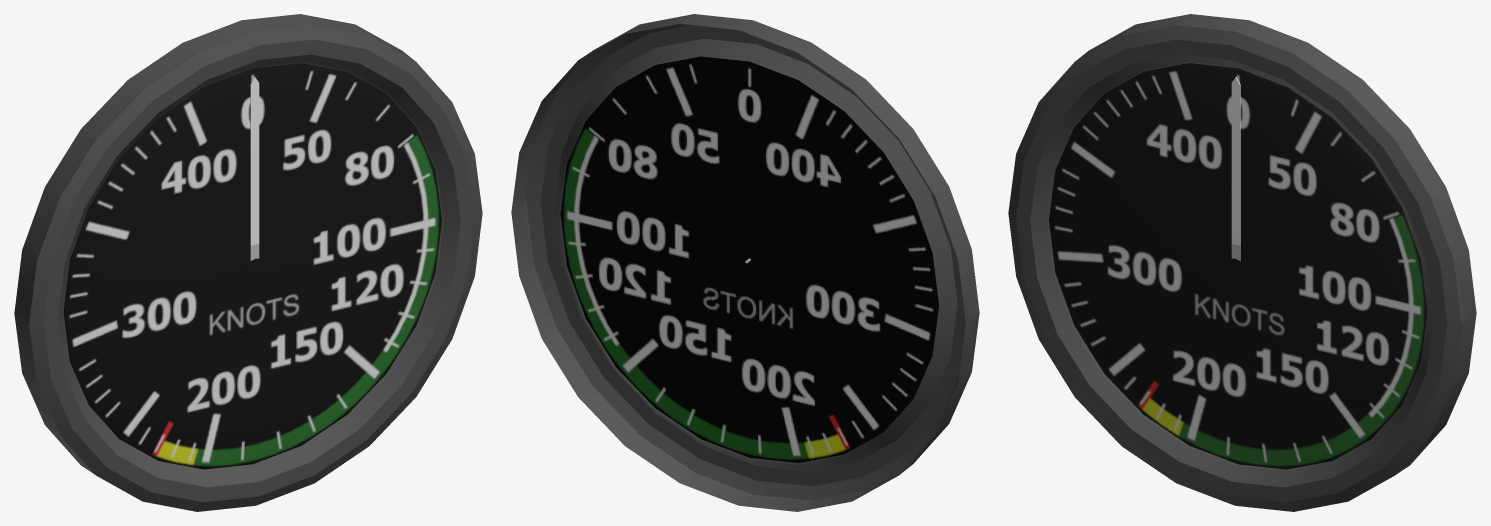
Rendered from Gauge_Knots.obj.
The picture shows the model from 3 angles, left to right: view 1: azimuth 30°, elevation 25°; view 2: azimuth 150°, elevation 25°; view 3: azimuth 330°, elevation 25°; orthographic projection.
Parts seen in each view (by area): view 1: Face, Rim, NeedleMain; view 2: Face, Rim; view 3: Face, Rim, NeedleMain.
Part boxes in pixels (x1,y1,x2,y2): Face: (63,63,441,469); Rim: (14,14,482,511); NeedleMain: (250,77,259,245); Face: (560,56,938,462); Rim: (511,14,979,511); Face: (1049,63,1427,469); Rim: (1008,14,1476,511); NeedleMain: (1231,77,1240,245).
Bounding box in the file's own units: 0.0822 × 0.0822 × 0.00794.
